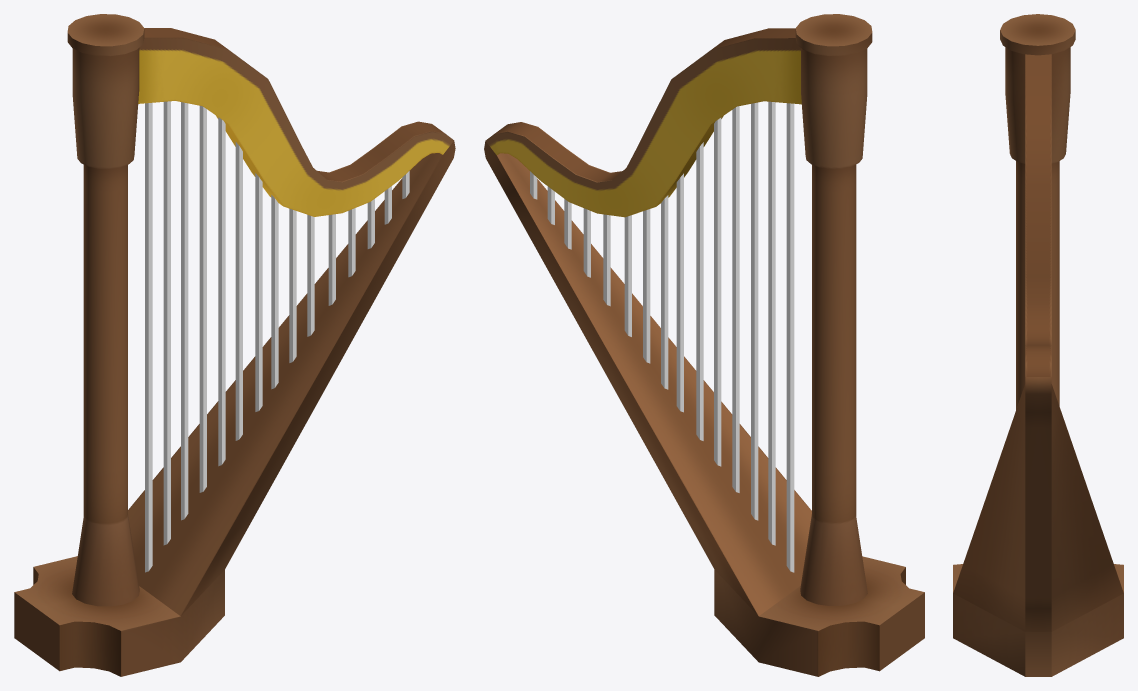
Rendered from ENV2010060.fbx.
3 renders of one model, left to right at view 1: azimuth 30°, elevation 25°; view 2: azimuth 150°, elevation 25°; view 3: azimuth 270°, elevation 25°, orthographic. The views are drawn at different scales.
Parts seen in each view (by area): view 1: smENV2010060; view 2: smENV2010060; view 3: smENV2010060.
Boxes of the visible parts, x1,y1,x2,y2 form: smENV2010060: [14, 14, 455, 676]; smENV2010060: [484, 14, 924, 676]; smENV2010060: [953, 14, 1123, 676].
Bounding box in the file's own units: 34.65 × 48.87 × 12.76.
1 material, 1 textured.
